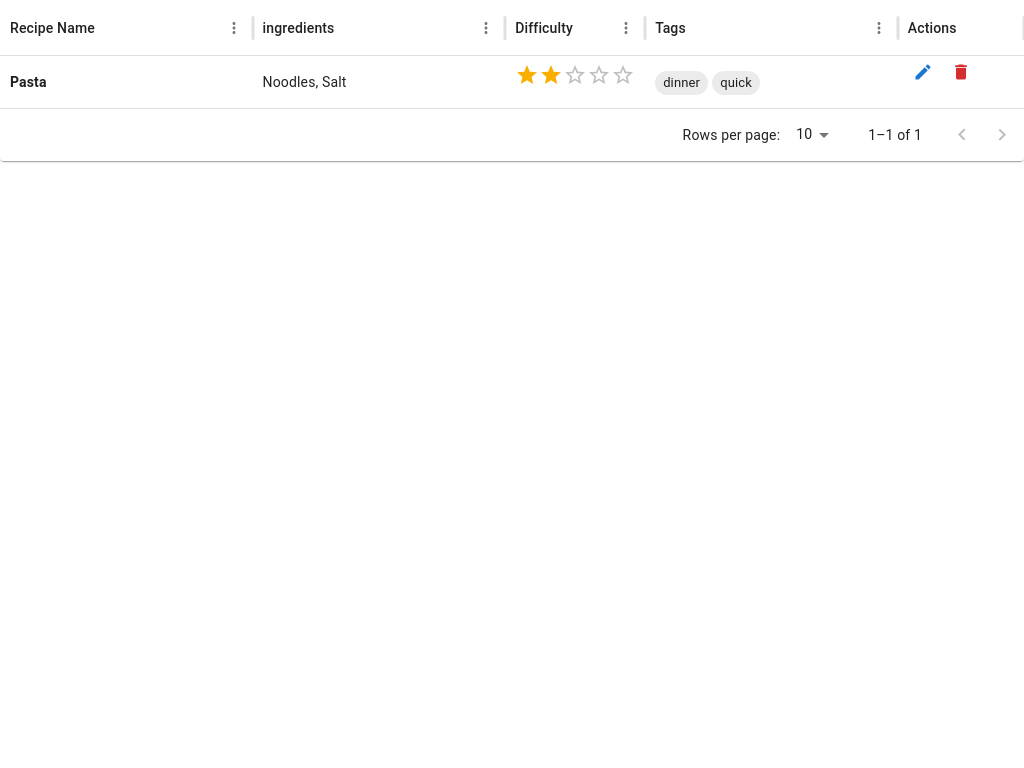
Test: RecipeTable › delete › closes the dialog when Cancel is clicked
Click the button named "delete" at point(961, 72), box [946,57,976,87]
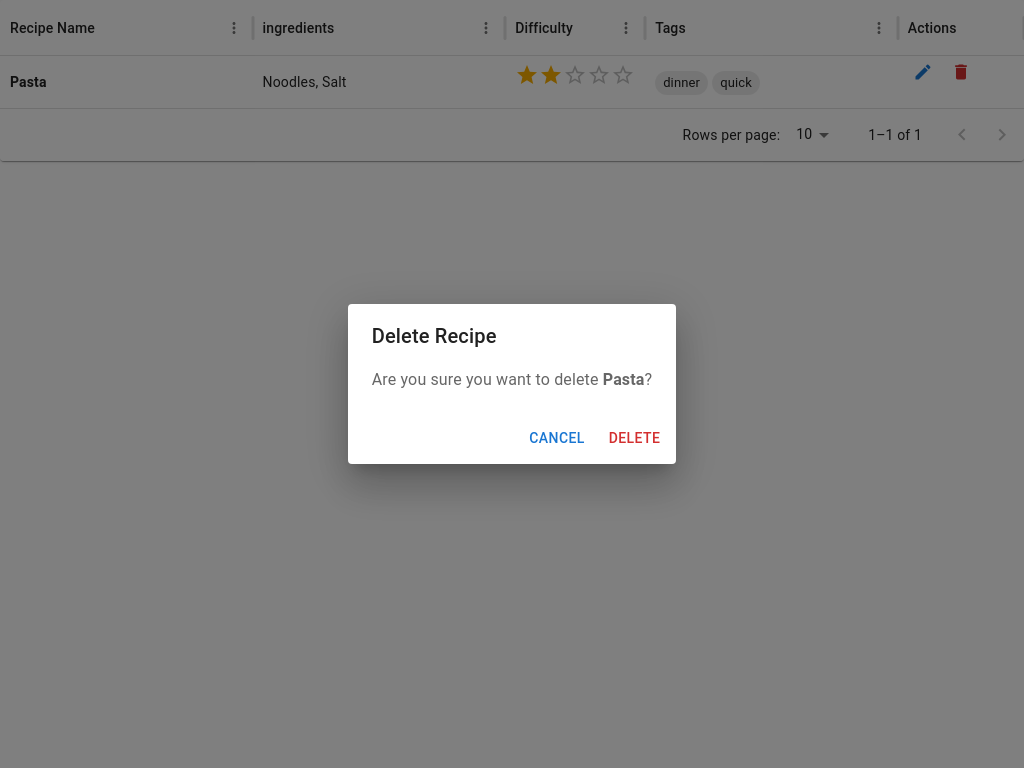
Click the button "Cancel" at point(557, 438), box [521,420,593,456]
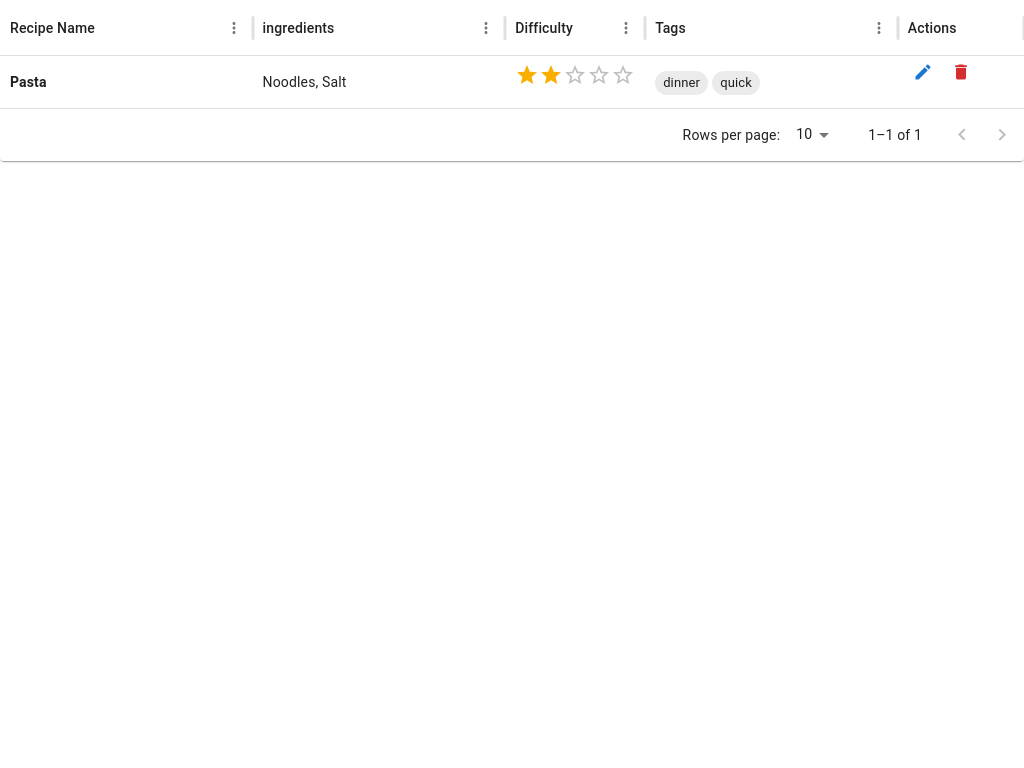
Expected: the heading "Delete Recipe" is gone
